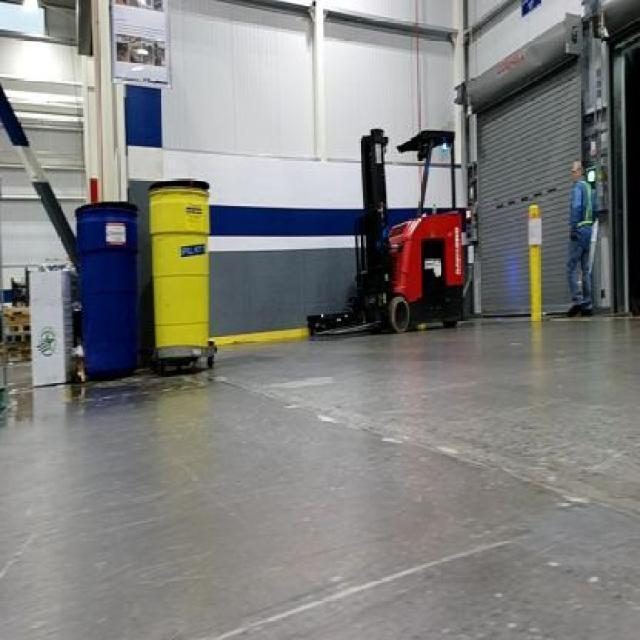forklift: (350, 129, 464, 334)
person: (562, 156, 596, 322)
